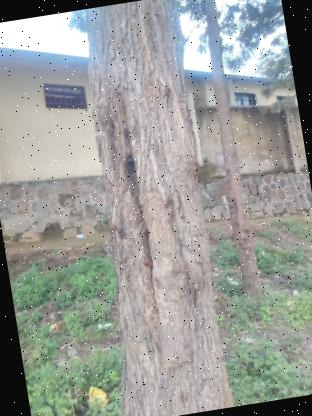tree: (49, 0, 252, 416), (181, 0, 281, 316)
